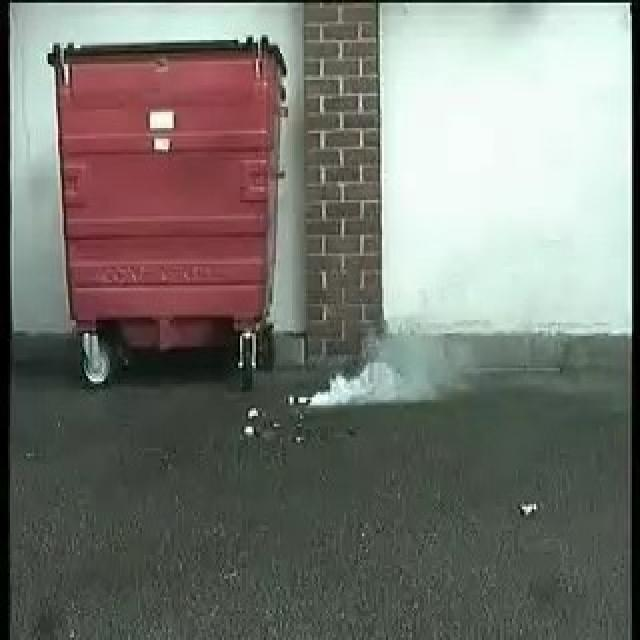smoke: (308, 328, 430, 408)
